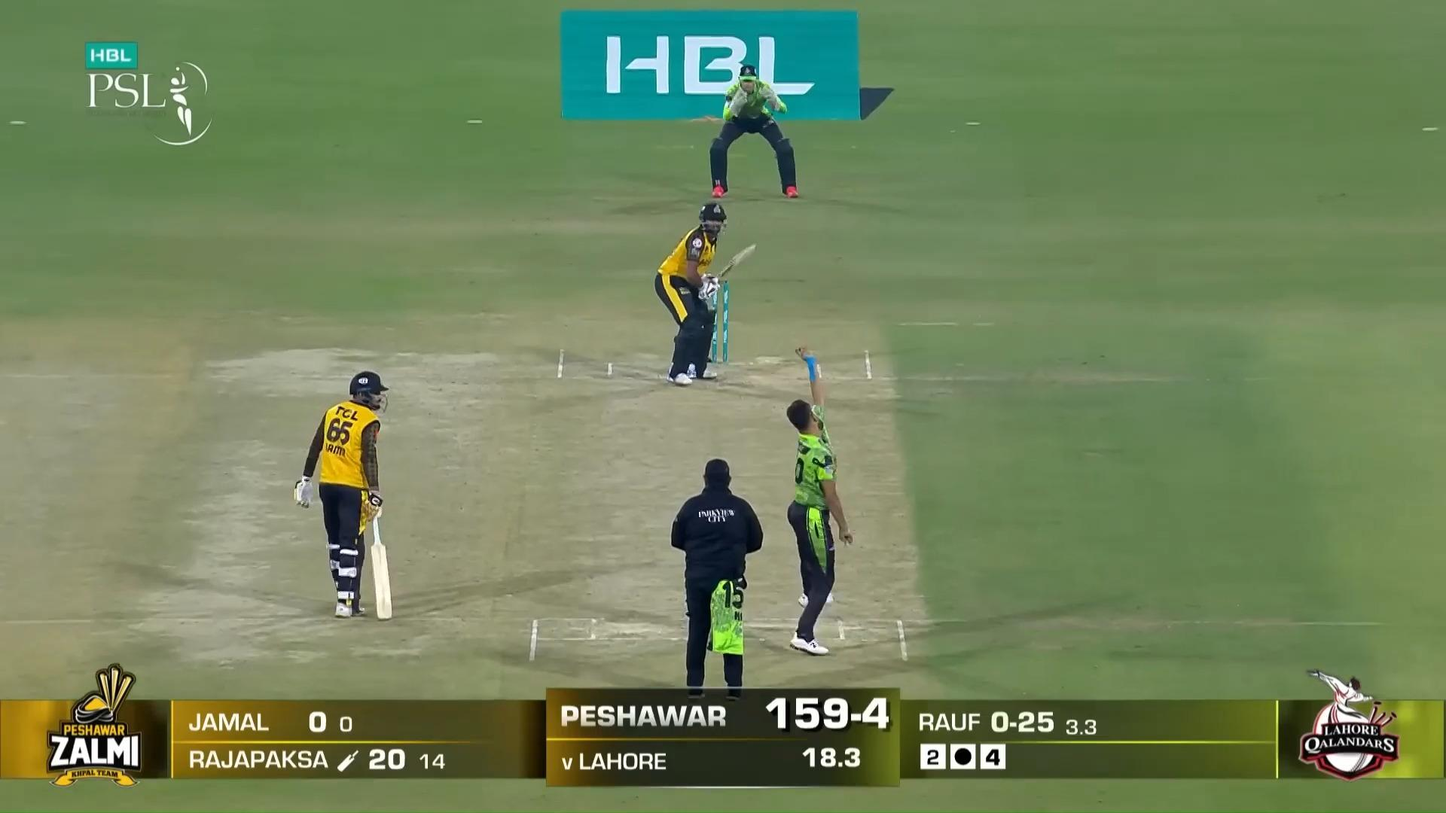batsman: (654, 202, 757, 386)
